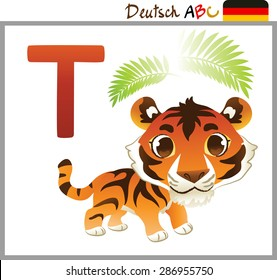animal: (42, 99, 260, 230)
